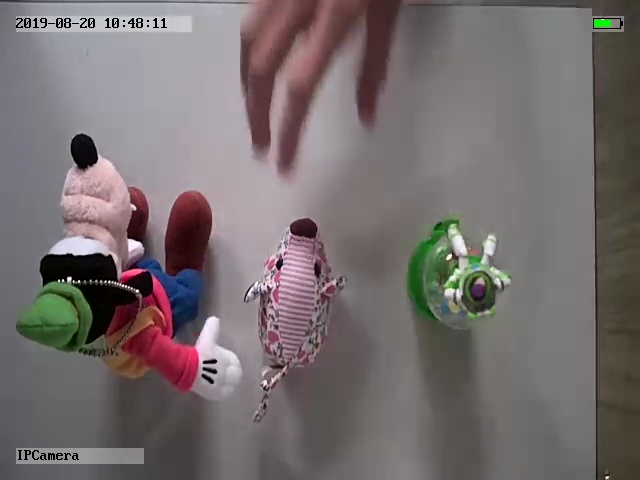buzz: (404, 217, 513, 334)
goofy: (13, 132, 245, 406)
pig: (245, 210, 352, 423)
